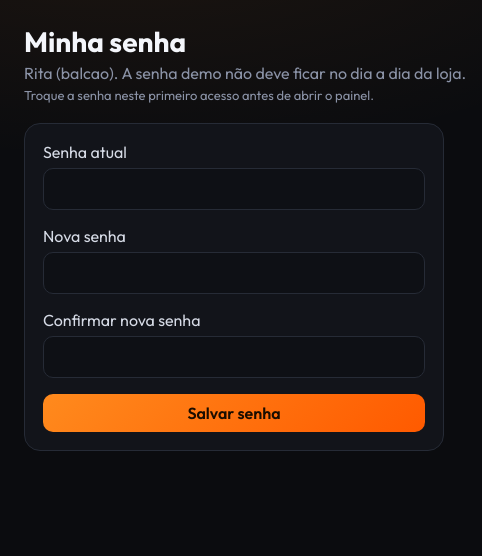
Test: Minha senha › recusa confirmação diferente e grava a senha nova
Type "bikeger" into the password field labelled "Senha atual" at (234, 189), box [43,168,425,210]
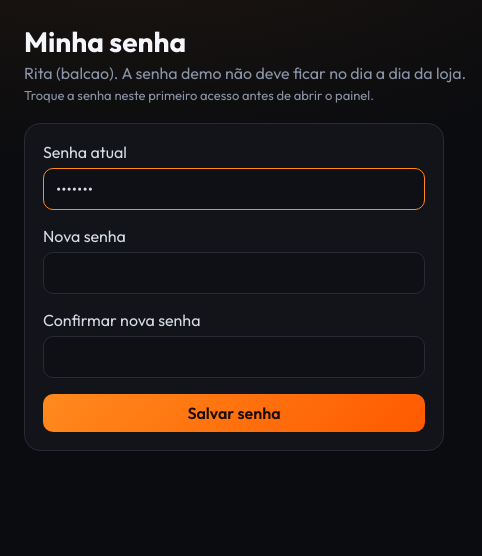
Type "senhanova1" into the password field labelled "Nova senha" at (234, 273), box [43,252,425,294]
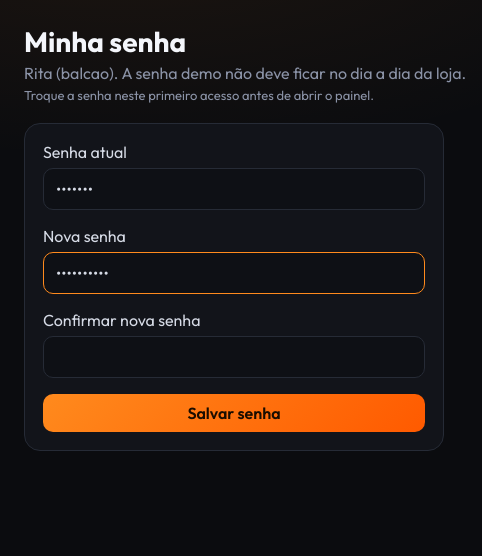
Type "outraaaaa" into the password field labelled "Confirmar nova senha" at (234, 357), box [43,336,425,378]
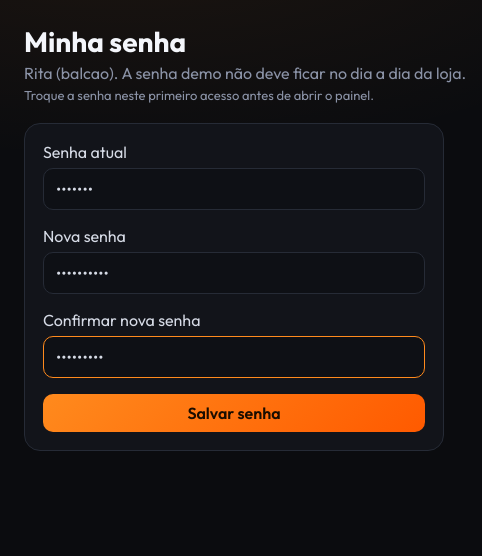
Click the button "Salvar senha" at (234, 413), box [43,394,425,432]
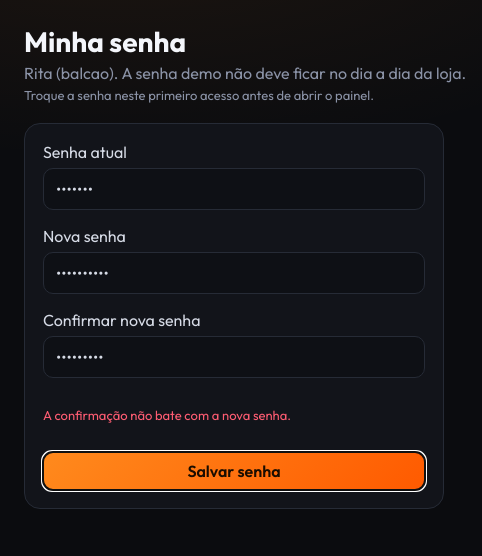
Now the message shows "confirmação não bate", box [43,407,291,423]
Type "senhanova1" into the password field labelled "Confirmar nova senha" at (234, 357), box [43,336,425,378]
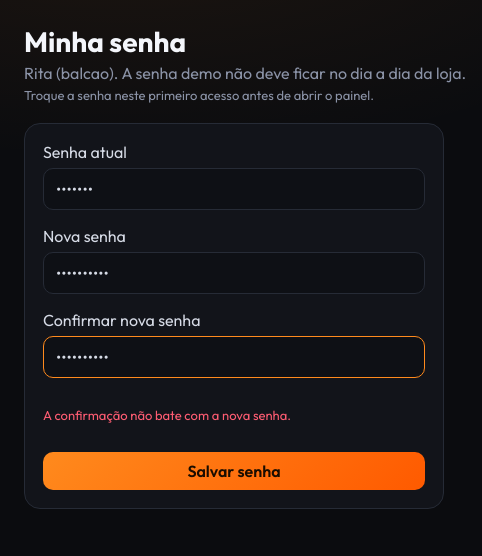
Click the button "Salvar senha" at (234, 471), box [43,452,425,490]
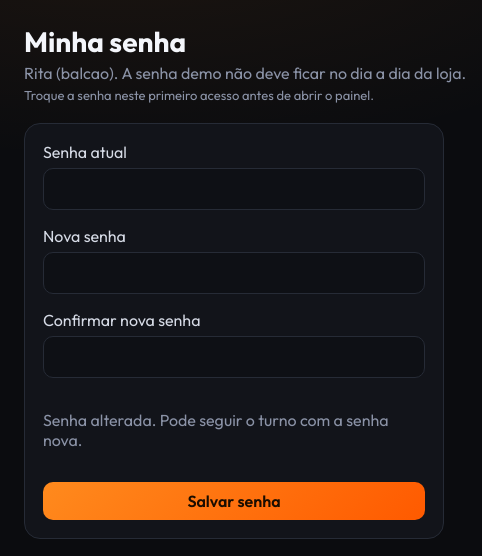
Now the message shows "Senha alterada", box [43,410,388,450]
